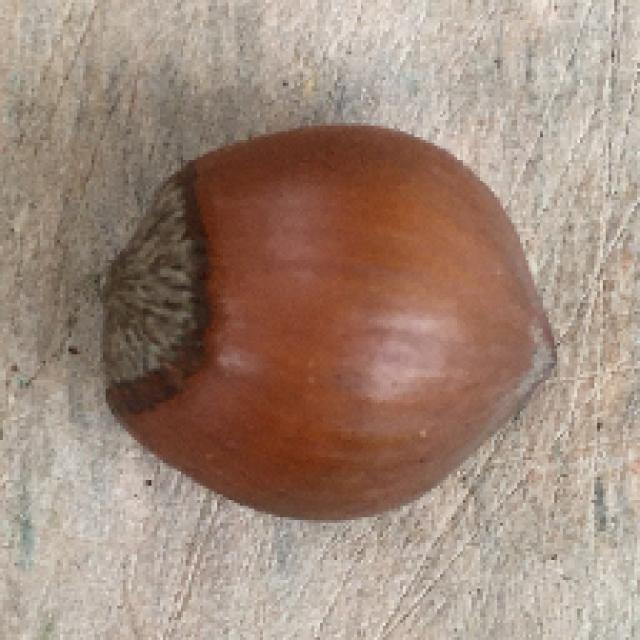qualityHazelnut: (95, 123, 560, 528)
